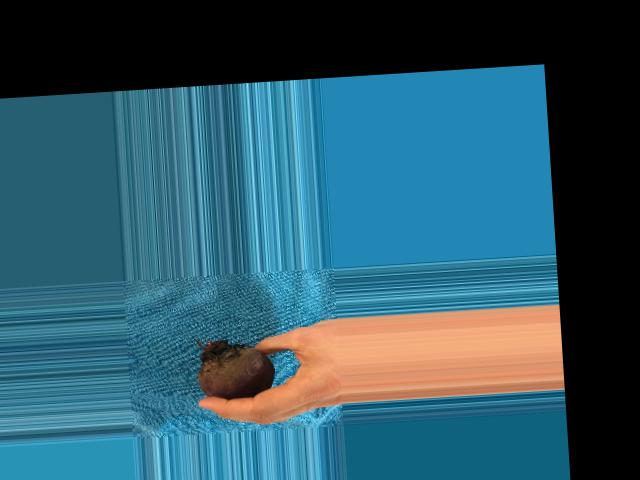beet: (195, 335, 275, 400)
